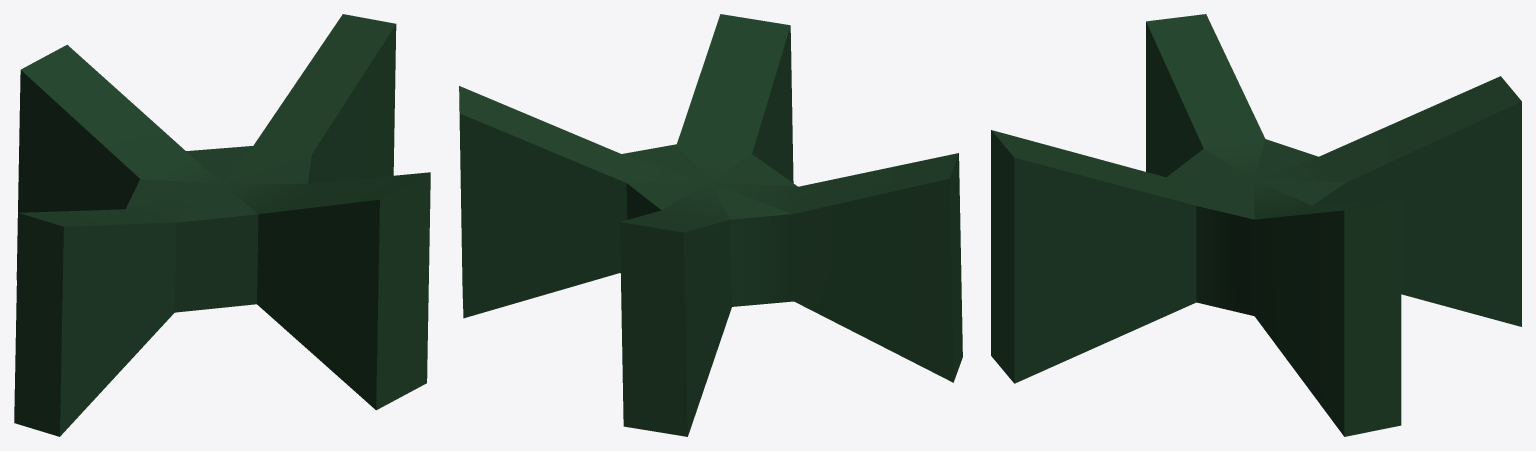
The model's file is faucetKnob_mdl.fbx.
3 renders of one model, left to right at view 1: azimuth 30°, elevation 25°; view 2: azimuth 150°, elevation 25°; view 3: azimuth 270°, elevation 25°, orthographic. The views are drawn at different scales.
Parts seen in each view (by area): view 1: polySurface4; view 2: polySurface4; view 3: polySurface4.
Boxes of the visible parts, x1,y1,x2,y2 form: polySurface4: (14,14,430,436); polySurface4: (459,14,962,436); polySurface4: (991,14,1521,436).
Size of the model in its own units: 45.15 by 23.61 by 42.87.
